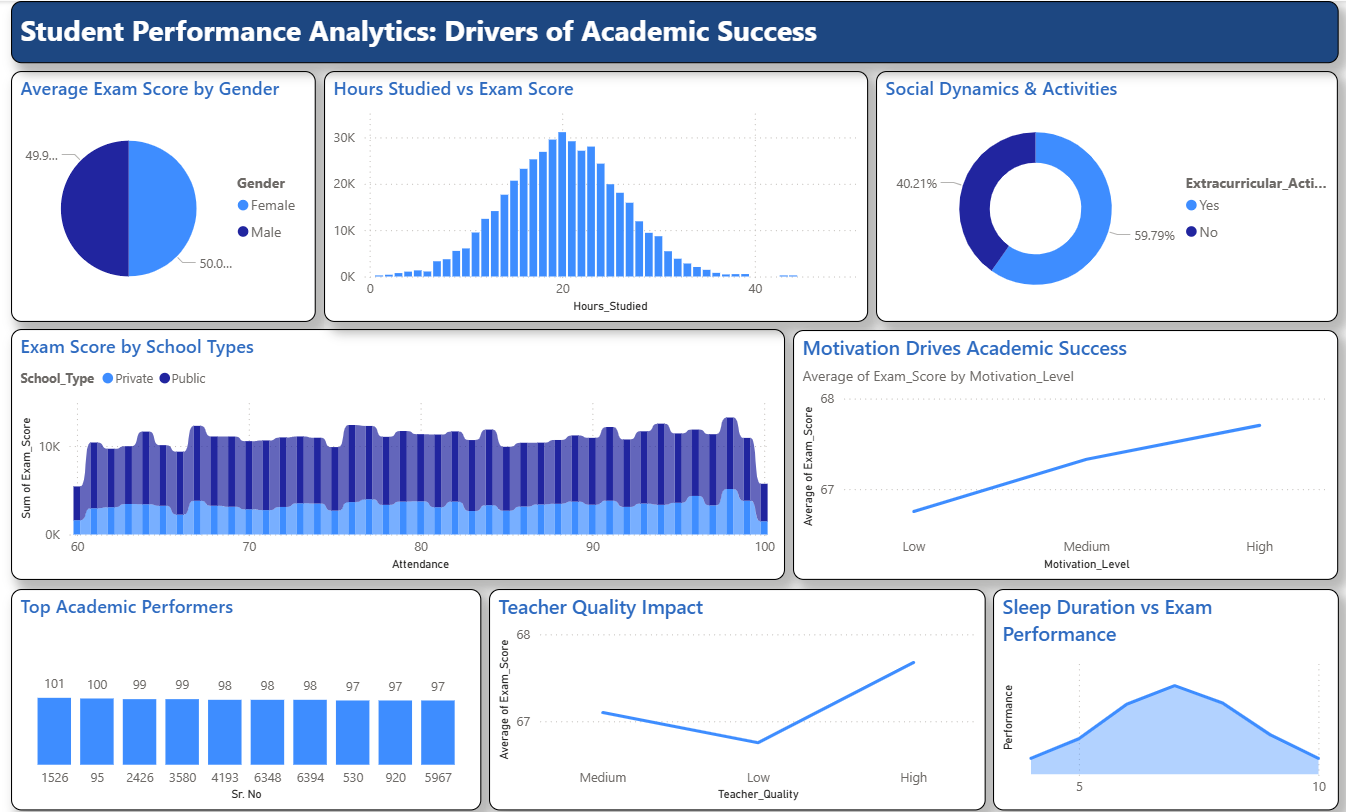

What the dashboard file says about the page in this screenshot:
{"tool":"powerbi","page":{"name":"Dashboard","canvas":[1280,770],"ordinal":0},"visuals":[{"type":"pieChart","title":"Average Exam Score by Gender","fields":{"Category":["StudentPerformanceFactors.Gender"],"Y":["Avg(StudentPerformanceFactors.Exam_Score)"]},"box":[11.1,66.5,289.3,237.9],"z":0},{"type":"ribbonChart","title":"Exam Score by School Types","fields":{"Category":["StudentPerformanceFactors.Attendance"],"Y":["Sum(StudentPerformanceFactors.Exam_Score)"],"Series":["StudentPerformanceFactors.School_Type"]},"box":[11.1,311.4,733.7,237.9],"z":1000},{"type":"lineStackedColumnComboChart","title":"Hours Studied vs Exam Score","fields":{"Category":["StudentPerformanceFactors.Hours_Studied"],"Y":["Sum(StudentPerformanceFactors.Exam_Score)"]},"box":[308.4,66.5,516,237.9],"z":2000},{"type":"donutChart","title":"Social Dynamics & Activities","fields":{"Y":["Sum(StudentPerformanceFactors.Exam_Score)"],"Category":["StudentPerformanceFactors.Extracurricular_Activities"]},"box":[831.5,66.5,438.4,237.9],"z":3000},{"type":"lineClusteredColumnComboChart","title":"Motivation Drives Academic Success","fields":{"Y2":["Avg(StudentPerformanceFactors.Exam_Score)"],"Category":["StudentPerformanceFactors.Motivation_Level"]},"box":[752.9,312.4,517,236.9],"z":4000},{"type":"clusteredColumnChart","title":"Top Academic Performers","fields":{"Category":["StudentPerformanceFactors.Sr. No"],"Y":["Sum(StudentPerformanceFactors.Exam_Score)"]},"box":[11.1,557.4,446.5,209.6],"z":5000},{"type":"lineStackedColumnComboChart","title":"Teacher Quality Impact","fields":{"Y2":["Avg(StudentPerformanceFactors.Exam_Score)"],"Category":["StudentPerformanceFactors.Teacher_Quality"]},"box":[464.6,557.4,470.7,209.6],"z":6000},{"type":"areaChart","title":"Sleep Duration vs Exam Performance","fields":{"Category":["StudentPerformanceFactors.Sleep_Hours"],"Y":["Sum(StudentPerformanceFactors.Exam_Score)"]},"box":[942.4,557.4,327.6,209.6],"z":7000},{"type":"textbox","box":[11.1,0,1258.8,59.5],"z":8000}]}

Visuals, with their boxes in screenshot pixels (x1, y1, x2, y2), scaled from the page's 1280x770 canvas onto the 1346x812 screenshot:
"Average Exam Score by Gender" pieChart: <box>12,70,316,321</box>
"Exam Score by School Types" ribbonChart: <box>12,328,783,579</box>
"Hours Studied vs Exam Score" lineStackedColumnComboChart: <box>324,70,867,321</box>
"Social Dynamics & Activities" donutChart: <box>874,70,1335,321</box>
"Motivation Drives Academic Success" lineClusteredColumnComboChart: <box>792,329,1335,579</box>
"Top Academic Performers" clusteredColumnChart: <box>12,588,481,809</box>
"Teacher Quality Impact" lineStackedColumnComboChart: <box>489,588,984,809</box>
"Sleep Duration vs Exam Performance" areaChart: <box>991,588,1335,809</box>
textbox: <box>12,0,1335,63</box>
